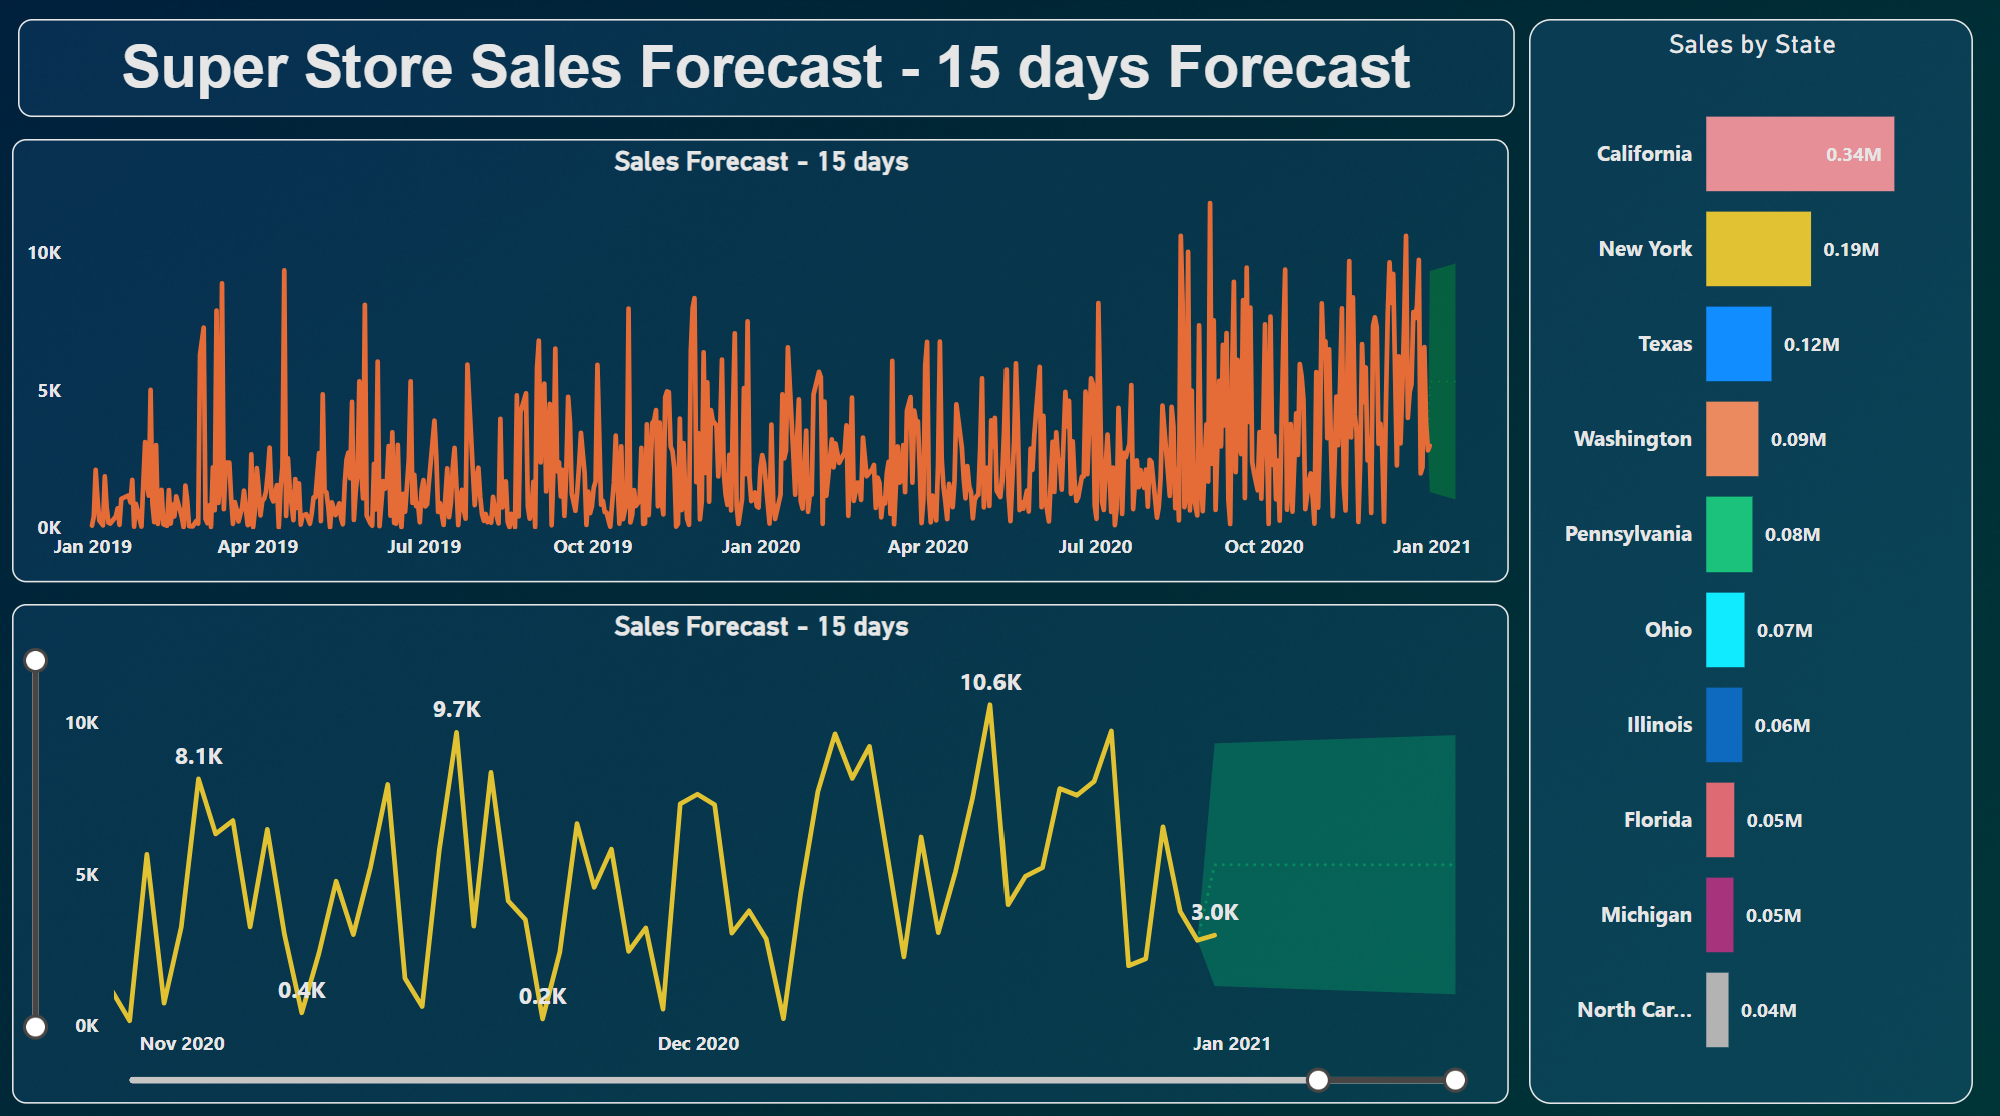

Layout of this report page (visuals, bound fields, positions):
{"tool":"powerbi","page":{"name":"Forecasting","canvas":[1280,720],"ordinal":1},"visuals":[{"type":"lineChart","title":"Sales Forecast - 15 days","fields":{"Y":["Sum(SuperStore_Sales_Dataset.Sales)"],"Category":["SuperStore_Sales_Dataset.Order Date"]},"box":[11.5,93.1,953.6,281.8],"z":0},{"type":"lineChart","title":"Sales Forecast - 15 days","fields":{"Y":["Sum(SuperStore_Sales_Dataset.Sales)"],"Category":["SuperStore_Sales_Dataset.Order Date"]},"box":[11.5,388.8,953.6,318.7],"z":1000},{"type":"textbox","box":[15.3,16.6,953.6,62.5],"z":1001},{"type":"clusteredBarChart","title":"Sales by State","fields":{"Y":["Sum(SuperStore_Sales_Dataset.Sales)"],"Category":["SuperStore_Sales_Dataset.State"]},"box":[977.8,16.6,283,691],"z":1002}]}

Visuals, with their boxes in screenshot pixels (x1, y1, x2, y2), scaled from the page's 1280x720 canvas onto the 2000x1116 screenshot:
"Sales Forecast - 15 days" lineChart: 18 144 1508 581
"Sales Forecast - 15 days" lineChart: 18 603 1508 1097
textbox: 24 26 1514 123
"Sales by State" clusteredBarChart: 1528 26 1970 1097
